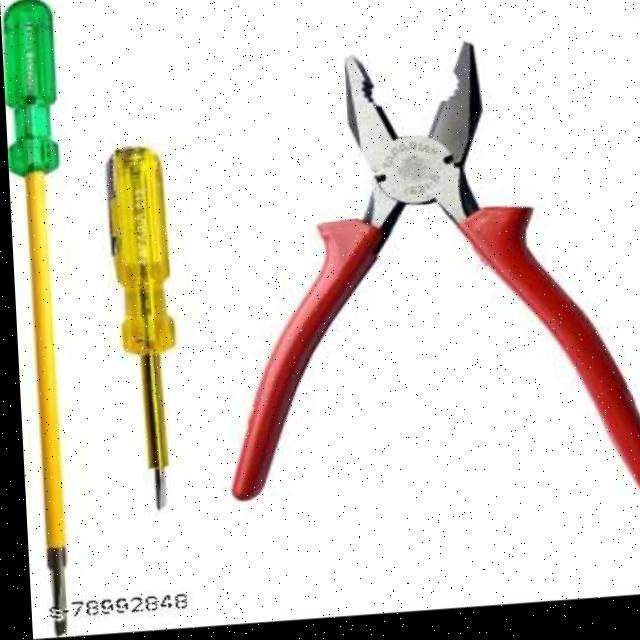Screwdriver: (4, 0, 61, 635), (106, 149, 171, 510)
